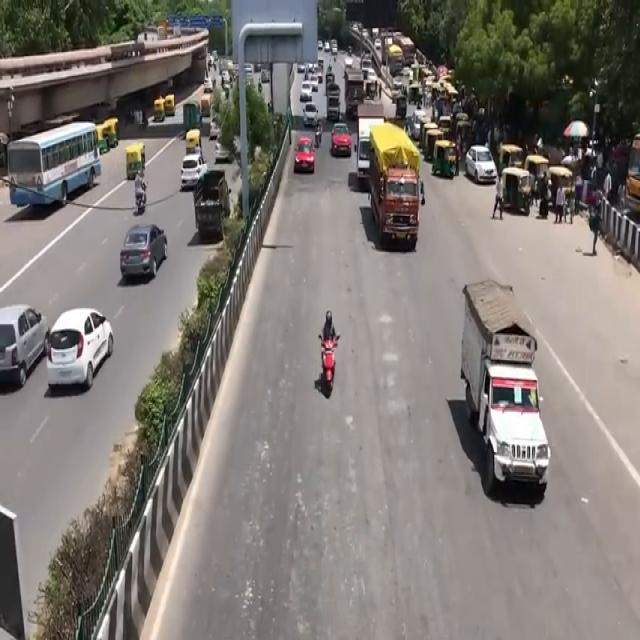BUS: (9, 120, 105, 212)
MOTORCYCLE: (321, 339, 336, 399)
TRUCK: (459, 283, 543, 505), (371, 124, 426, 251)
